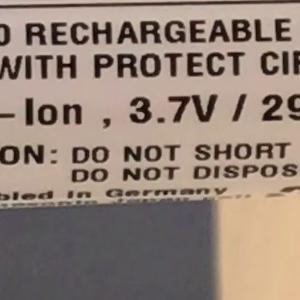keyword: (119, 84, 223, 134)
